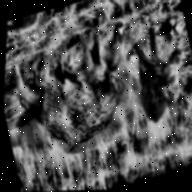boar: (6, 2, 178, 176), (86, 21, 192, 159)
